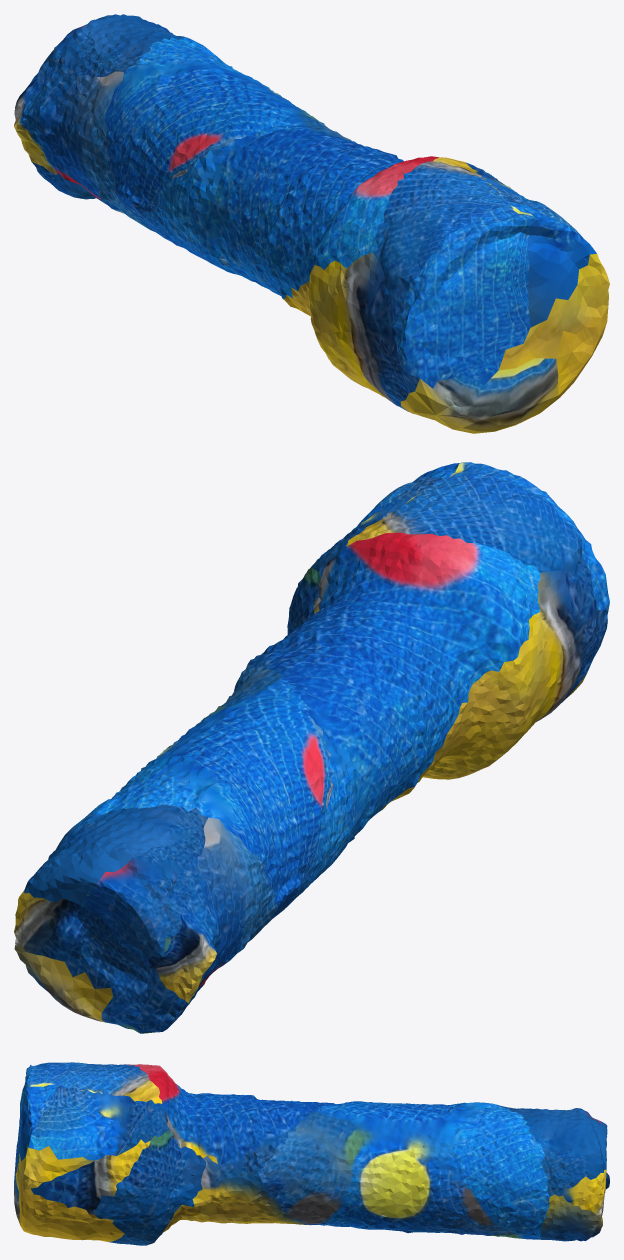
File: small_flashlight.obj
The picture shows the model from 3 angles, top to bottom: view 1: azimuth 30°, elevation 25°; view 2: azimuth 150°, elevation 25°; view 3: azimuth 270°, elevation 25°; orthographic projection. The views are drawn at different scales.
Size of the model in its own units: 0.0559 by 0.0554 by 0.1749.
